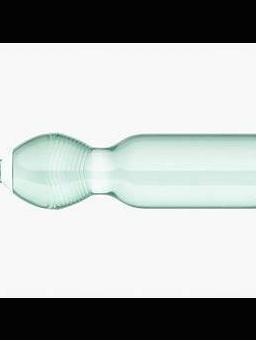bottle: (0, 129, 256, 207)
